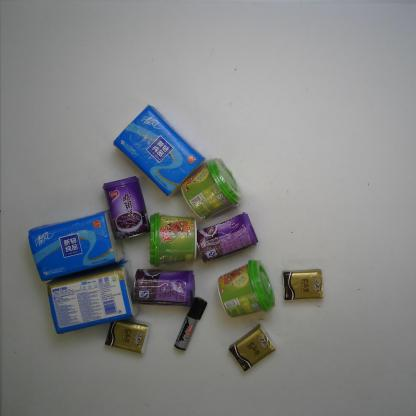Canned Food: (196, 210, 260, 265), (101, 175, 152, 241), (127, 263, 198, 308)
Instant Drink: (178, 154, 244, 223), (216, 258, 277, 321), (145, 209, 202, 268)
Stationery: (169, 294, 210, 354)
Tissue: (110, 100, 211, 202), (45, 256, 143, 338), (27, 208, 127, 283), (228, 323, 280, 374), (102, 318, 151, 357), (282, 266, 328, 302)
